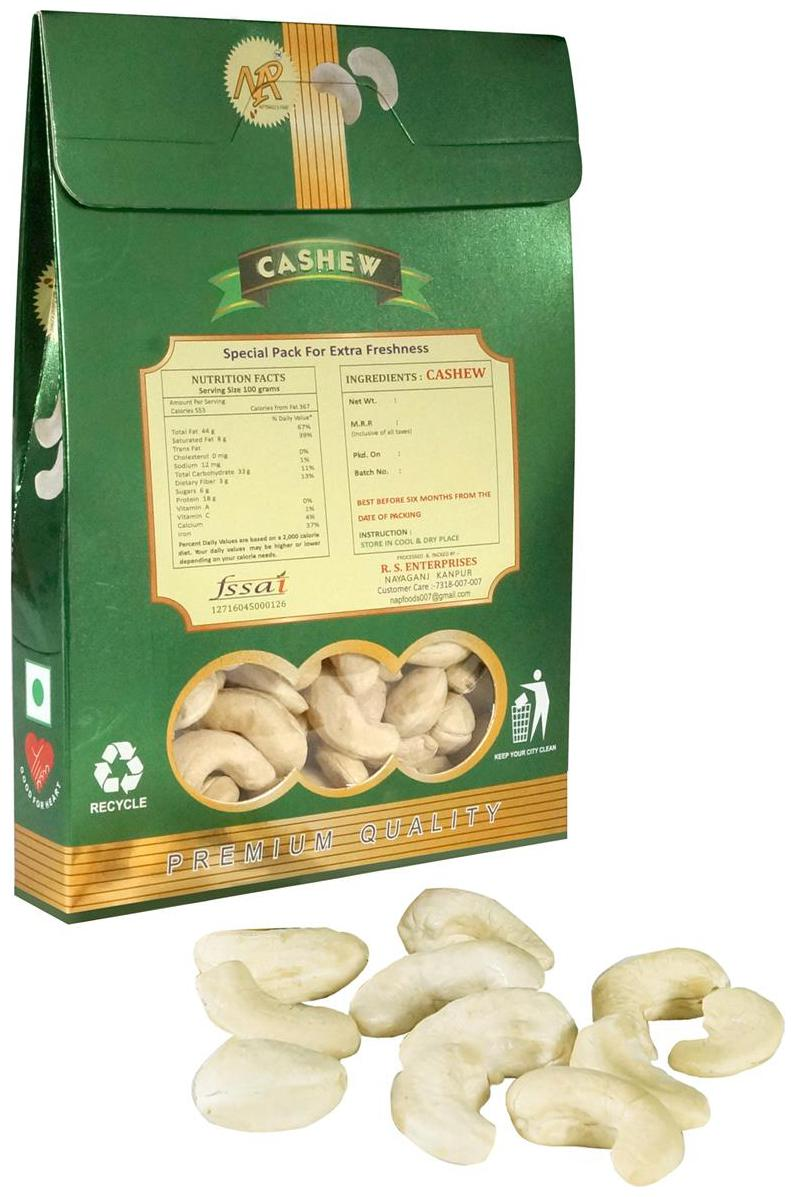fssai: (211, 567, 291, 600)
